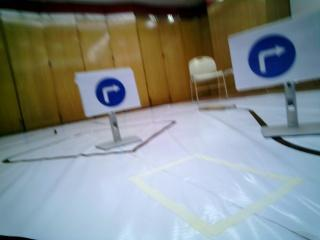right: (243, 31, 313, 81), (77, 70, 143, 110)
